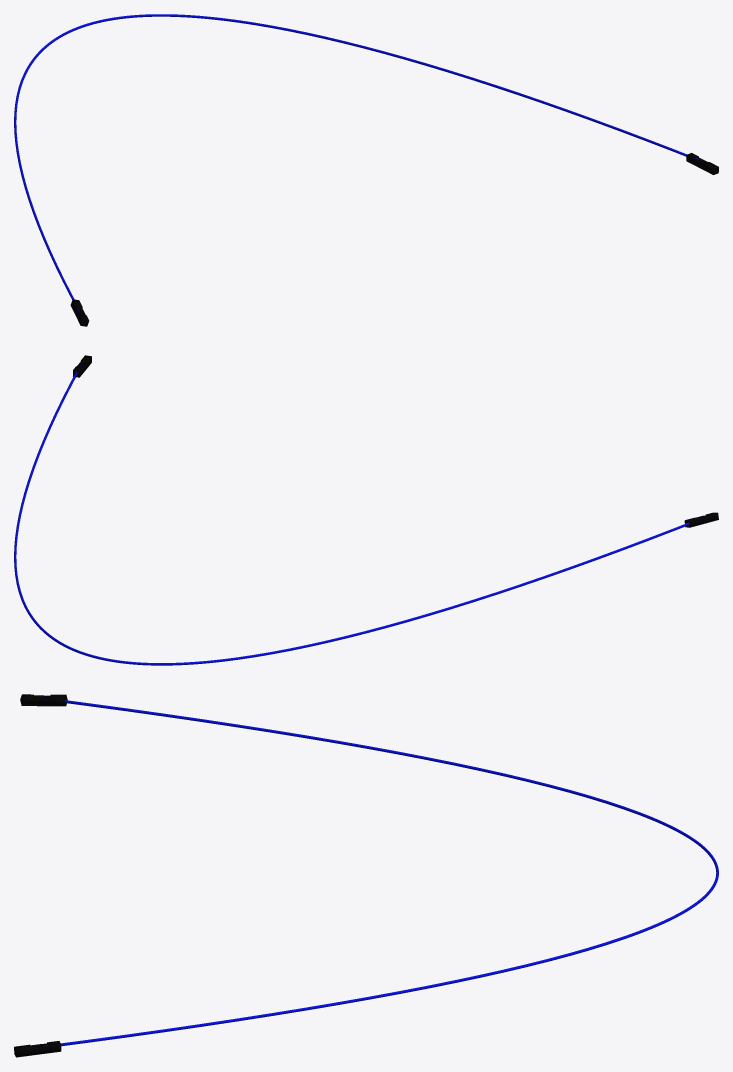
The model's file is JumperFF.fbx.
3 renders of one model, top to bottom at view 1: azimuth 30°, elevation 25°; view 2: azimuth 150°, elevation 25°; view 3: azimuth 270°, elevation 25°, orthographic. The views are drawn at different scales.
Parts seen in each view (by area): view 1: JumperFF; view 2: JumperFF; view 3: JumperFF.
Boxes of the visible parts, <box> form: JumperFF: <box>14,14,718,326</box>; JumperFF: <box>14,355,718,665</box>; JumperFF: <box>14,694,718,1057</box>.
Size of the model in its own units: 512 by 9.34 by 428.
